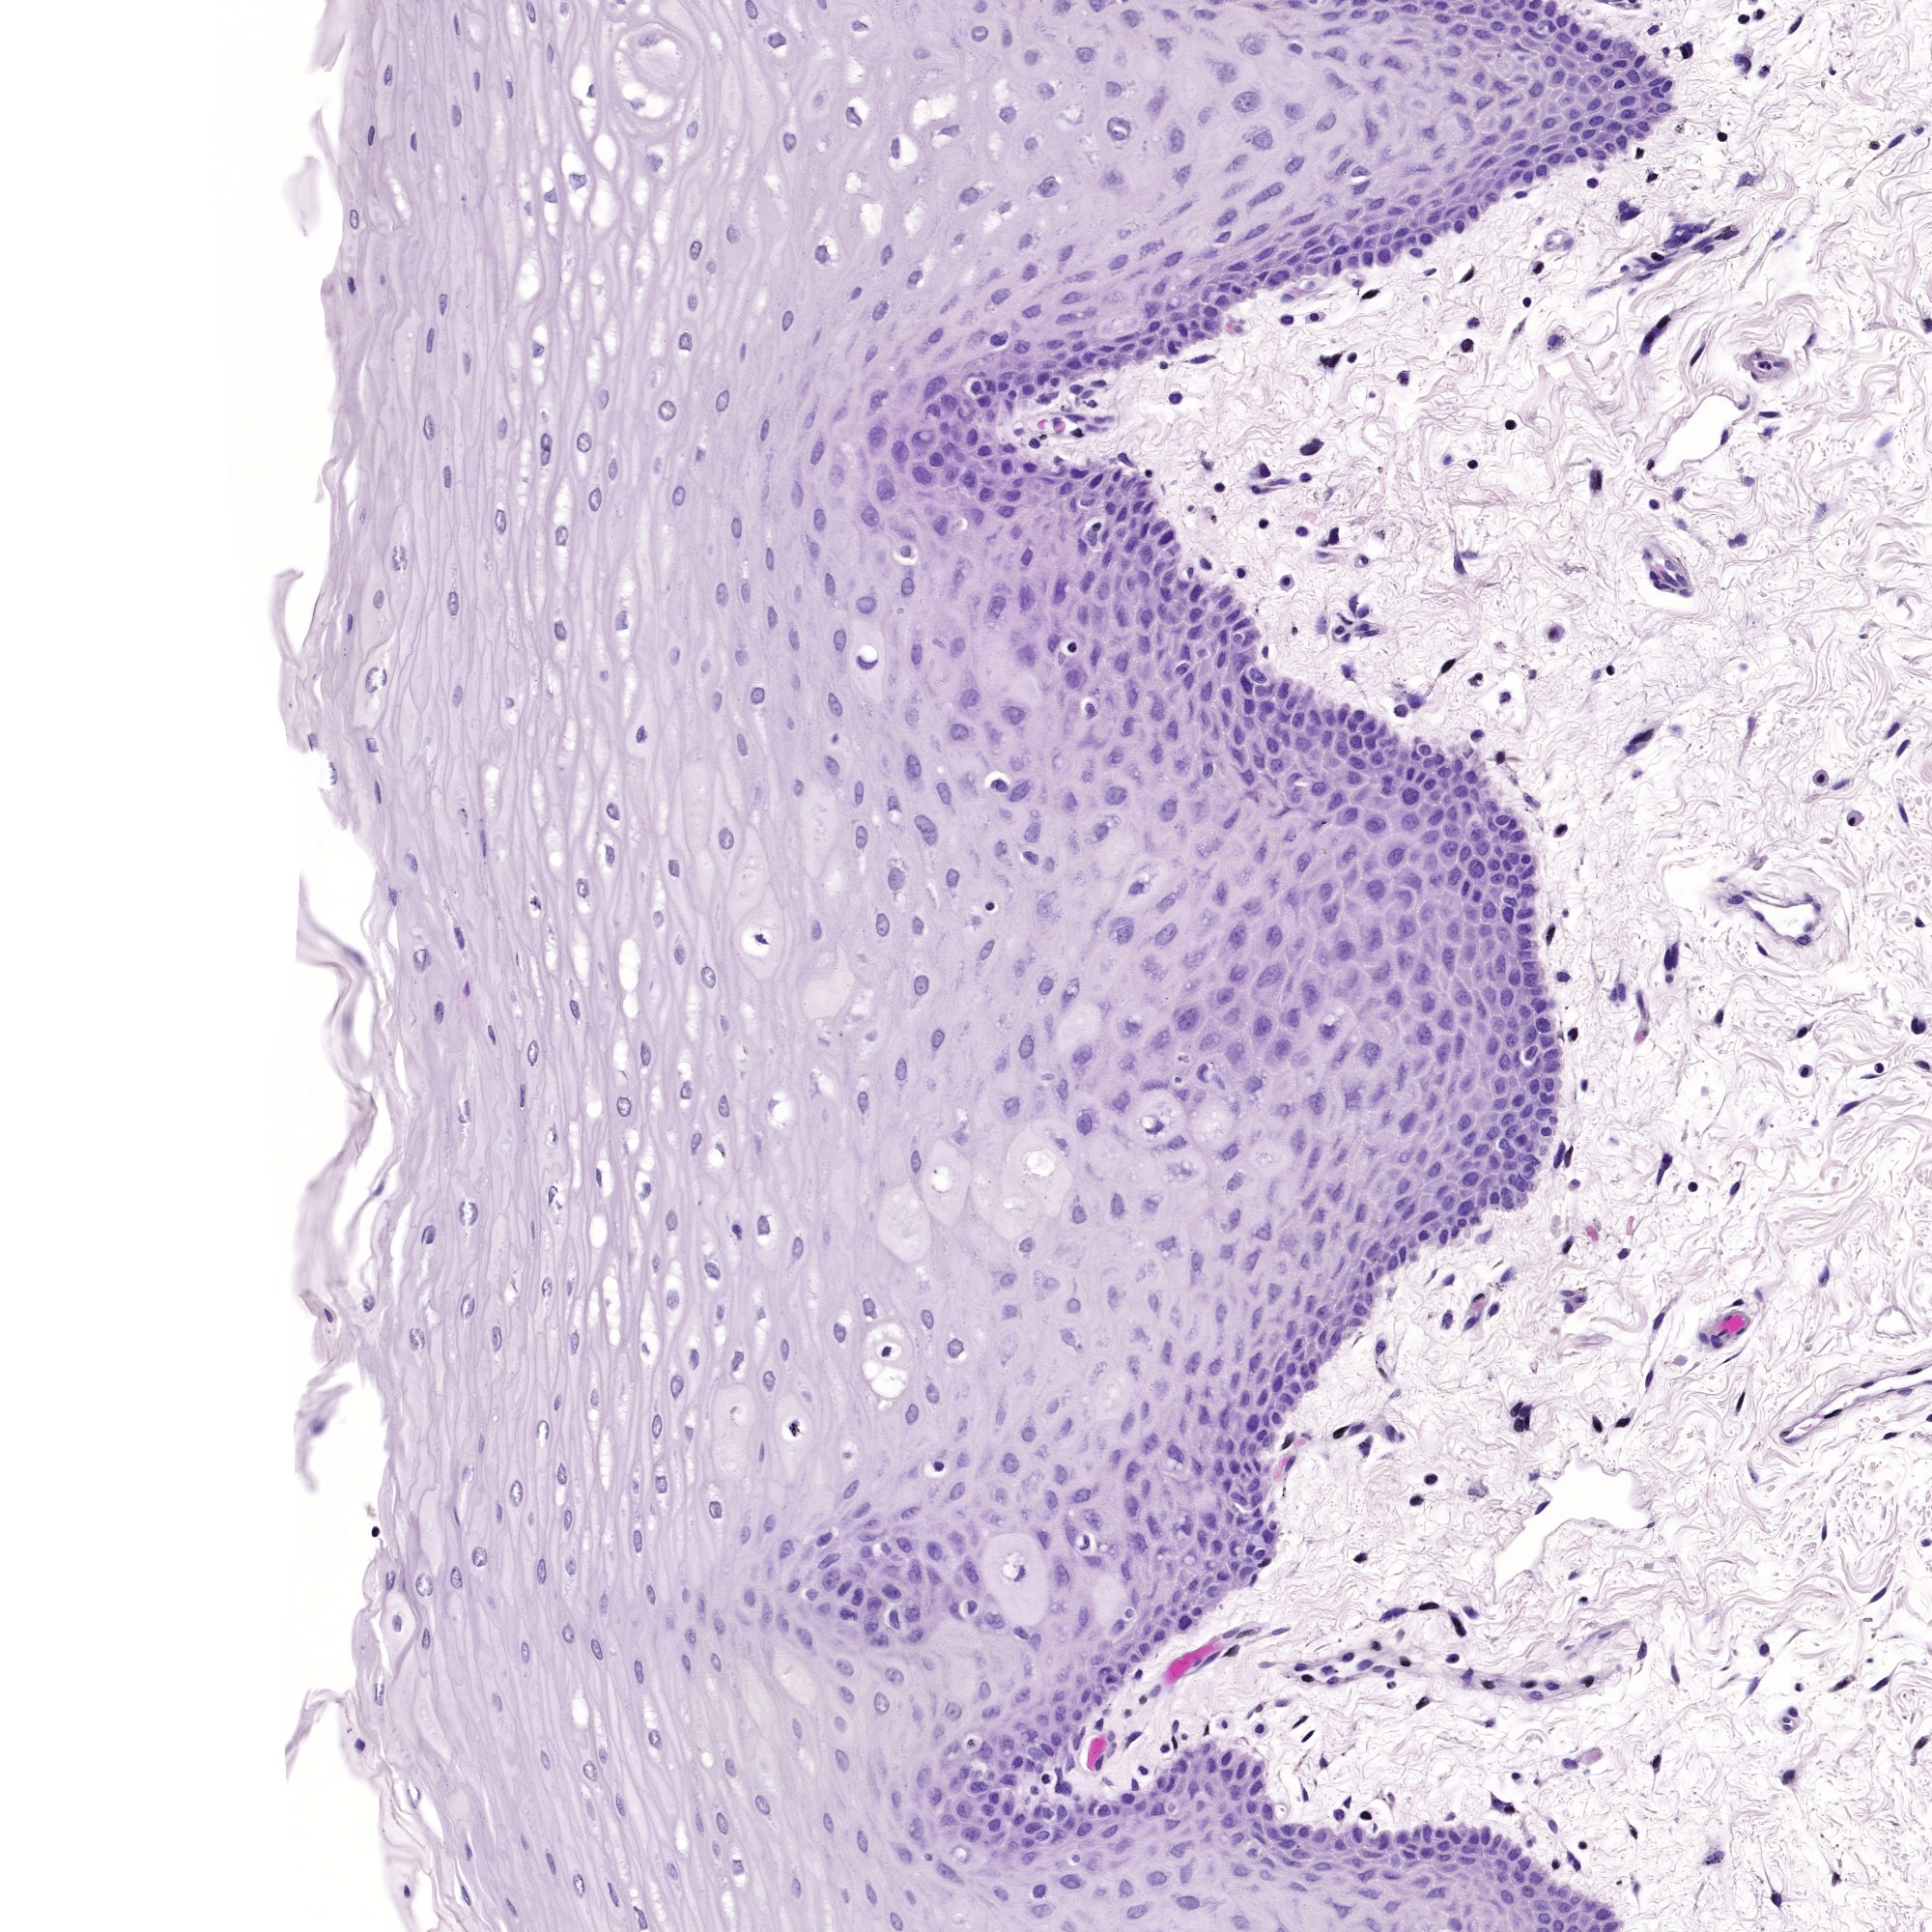epithelial: (1016, 786, 1026, 798), (957, 727, 964, 738), (1424, 1028, 1430, 1042), (920, 472, 927, 481), (1164, 897, 1171, 906), (916, 982, 925, 989), (1242, 660, 1253, 665), (1058, 584, 1062, 600), (1329, 909, 1334, 920), (832, 764, 839, 771), (1187, 1900, 1194, 1907), (1253, 230, 1261, 235), (931, 384, 939, 389), (720, 1104, 725, 1113), (1318, 1235, 1323, 1244), (1113, 175, 1118, 182), (1265, 191, 1272, 196), (1302, 218, 1309, 223), (1077, 341, 1083, 349), (584, 439, 589, 446), (816, 448, 821, 455), (867, 513, 872, 520), (1162, 612, 1168, 619), (1408, 793, 1414, 800), (1322, 890, 1329, 895), (1341, 947, 1346, 954), (1461, 996, 1467, 1003), (1279, 1047, 1284, 1054), (1184, 1016, 1191, 1021), (1157, 1037, 1162, 1044), (1405, 1152, 1410, 1159), (1320, 1309, 1327, 1315), (1129, 1504, 1134, 1511), (1090, 1518, 1095, 1525), (893, 1918, 897, 1928), (1132, 1909, 1138, 1916), (1435, 1891, 1442, 1897), (1525, 1890, 1530, 1897), (1539, 1905, 1546, 1911), (1629, 74, 1637, 80), (1272, 1288, 1276, 1297), (1304, 1258, 1307, 1267), (1405, 1120, 1408, 1129), (901, 1543, 909, 1546), (991, 1621, 1000, 1624), (1060, 1709, 1063, 1718), (1072, 1879, 1076, 1888), (1169, 258, 1175, 264), (1325, 120, 1330, 126), (1290, 258, 1295, 264), (428, 426, 433, 432), (862, 602, 867, 607), (1030, 855, 1035, 860), (1164, 932, 1169, 938), (1352, 759, 1357, 764), (1376, 757, 1382, 763), (1403, 892, 1408, 897), (1529, 1033, 1534, 1039), (1371, 1053, 1376, 1058), (1422, 975, 1428, 980), (1235, 970, 1240, 975), (1261, 1024, 1267, 1030), (1081, 1053, 1086, 1058), (1150, 1083, 1155, 1088), (722, 1021, 727, 1026), (713, 1270, 718, 1276), (837, 1332, 842, 1338), (1164, 1242, 1169, 1247), (1249, 1258, 1254, 1263), (1369, 1247, 1375, 1253), (952, 1709, 957, 1714), (1154, 1875, 1159, 1881), (529, 7, 533, 14), (1005, 115, 1012, 119), (1042, 90, 1046, 97), (1026, 271, 1033, 274), (1253, 41, 1256, 48), (1445, 69, 1453, 73), (1307, 228, 1315, 232), (931, 407, 938, 410), (1014, 529, 1017, 536), (1157, 564, 1161, 571), (1357, 711, 1361, 718), (1139, 573, 1143, 580), (968, 697, 975, 701), (1134, 694, 1138, 701), (639, 731, 642, 738), (722, 837, 729, 840), (1031, 830, 1035, 837), (1346, 853, 1350, 860), (1530, 1065, 1537, 1069), (1447, 955, 1451, 962), (1491, 1044, 1495, 1051), (1445, 1017, 1449, 1024), (1392, 996, 1396, 1003), (1175, 1141, 1182, 1145), (1313, 1157, 1316, 1164), (1281, 1359, 1284, 1366), (1507, 1164, 1514, 1168), (1150, 1523, 1154, 1530), (945, 1867, 948, 1874), (1391, 1874, 1398, 1877), (1573, 23, 1576, 30), (920, 51, 924, 57), (1332, 28, 1338, 32), (1479, 32, 1484, 35), (1426, 133, 1431, 136), (1486, 161, 1491, 165), (1309, 241, 1313, 246), (1182, 327, 1185, 333), (1141, 352, 1145, 357), (1028, 389, 1031, 395), (996, 292, 1001, 295), (947, 398, 950, 403), (545, 441, 548, 446), (985, 492, 989, 497), (1005, 510, 1008, 515), (975, 513, 978, 518), (1058, 469, 1062, 474), (1157, 527, 1162, 531), (1242, 681, 1247, 685), (1300, 741, 1304, 747), (1237, 623, 1242, 626), (1166, 575, 1169, 580), (771, 616, 775, 621), (743, 656, 747, 662), (619, 621, 623, 626), (561, 632, 564, 637), (605, 674, 609, 679), (372, 743, 375, 748), (895, 878, 899, 883), (879, 927, 885, 931), (810, 929, 814, 934), (1100, 830, 1104, 835), (1231, 819, 1235, 824), (1046, 904, 1047, 915), (1295, 793, 1299, 798), (1437, 816, 1442, 819), (1500, 835, 1506, 839), (1430, 835, 1435, 839), (1392, 858, 1398, 862), (1527, 870, 1530, 876), (1525, 911, 1529, 916), (1497, 1023, 1500, 1028), (1543, 1099, 1548, 1102), (1518, 1099, 1522, 1104), (1463, 1083, 1468, 1086), (1380, 968, 1382, 978), (1309, 993, 1313, 998), (1267, 973, 1270, 978), (1042, 984, 1047, 987), (1008, 1106, 1012, 1111), (672, 1299, 676, 1304), (1168, 1350, 1169, 1361), (1192, 1359, 1194, 1369), (1426, 1215, 1431, 1219), (1311, 1364, 1315, 1369), (1304, 1373, 1307, 1378), (1065, 1426, 1069, 1431), (1010, 1461, 1014, 1467), (911, 1412, 916, 1415), (768, 1520, 771, 1525), (870, 1626, 874, 1631), (911, 1573, 915, 1578), (1023, 1631, 1028, 1635), (1122, 1649, 1127, 1652), (1219, 1573, 1223, 1578), (1511, 1852, 1516, 1856), (1442, 1845, 1445, 1851), (1318, 1835, 1323, 1838), (922, 1775, 925, 1780), (1083, 1826, 1086, 1831), (589, 1808, 594, 1812), (1369, 1891, 1373, 1897), (1387, 1905, 1398, 1907), (1518, 1877, 1522, 1882), (1562, 1905, 1568, 1909), (1601, 1914, 1605, 1920), (1571, 1916, 1576, 1920), (1573, 111, 1576, 117), (1649, 73, 1652, 78), (1297, 108, 1299, 117), (736, 524, 738, 533), (1026, 554, 1028, 563), (994, 603, 996, 612), (1169, 805, 1171, 814), (1401, 961, 1410, 962), (1251, 1079, 1253, 1088), (863, 1099, 865, 1108), (1309, 1194, 1311, 1203), (1035, 1637, 1037, 1645), (1244, 1571, 1253, 1573), (387, 76, 391, 80), (455, 113, 458, 117), (690, 127, 694, 131), (550, 196, 554, 200), (789, 138, 791, 145), (1060, 5, 1063, 9), (1046, 188, 1049, 191), (1150, 246, 1152, 253), (1116, 260, 1120, 264), (1023, 239, 1026, 242), (1164, 44, 1168, 48), (1228, 71, 1230, 78), (1334, 80, 1338, 83), (1380, 12, 1382, 19), (1454, 96, 1458, 99), (1483, 99, 1486, 103), (1412, 198, 1415, 202), (1435, 202, 1438, 205), (1263, 253, 1267, 257), (1279, 255, 1286, 257), (1424, 239, 1428, 242), (1210, 311, 1214, 315), (1196, 334, 1200, 338), (1171, 345, 1173, 352), (1070, 292, 1074, 295), (1065, 318, 1069, 322), (1127, 345, 1131, 349), (936, 331, 938, 338), (545, 453, 548, 456), (807, 418, 810, 421), (1016, 481, 1023, 483), (1076, 474, 1083, 476), (1164, 538, 1168, 541), (1272, 741, 1274, 748), (1230, 616, 1233, 619), (1192, 610, 1194, 617), (1187, 681, 1191, 685), (1164, 591, 1168, 594), (1145, 612, 1148, 616), (1085, 577, 1088, 580), (1016, 715, 1019, 718), (1074, 678, 1076, 685), (1122, 660, 1123, 667), (743, 748, 747, 752), (391, 895, 395, 899), (672, 863, 676, 867), (911, 761, 915, 764), (1115, 794, 1118, 798), (1090, 741, 1097, 743), (1258, 761, 1261, 764), (1269, 777, 1272, 780), (1295, 775, 1297, 782), (1316, 786, 1320, 789), (1352, 777, 1355, 780), (1437, 759, 1440, 763), (1472, 869, 1476, 872), (1334, 801, 1338, 805), (1437, 879, 1440, 883), (1511, 881, 1514, 885), (1523, 952, 1527, 955), (1529, 964, 1532, 968), (1537, 1001, 1541, 1005), (1546, 1040, 1550, 1044), (1548, 1063, 1552, 1067), (1484, 929, 1488, 932), (1504, 994, 1507, 998), (1511, 1023, 1514, 1026), (1511, 1037, 1513, 1044), (1316, 1100, 1320, 1104), (1293, 1016, 1295, 1023), (784, 1346, 787, 1350), (867, 1306, 870, 1309), (1079, 1122, 1083, 1125), (1233, 1178, 1237, 1182), (1214, 1364, 1217, 1368), (1339, 1154, 1343, 1157), (1339, 1189, 1341, 1196), (1421, 1155, 1424, 1159), (1401, 1185, 1405, 1189), (1350, 1240, 1353, 1244), (1431, 1169, 1435, 1173), (1254, 1361, 1258, 1364), (1477, 1150, 1481, 1154), (1509, 1131, 1513, 1134), (1465, 1207, 1468, 1210), (1284, 1398, 1288, 1401), (1277, 1378, 1279, 1385), (1148, 1442, 1152, 1445), (1175, 1453, 1178, 1456), (1258, 1522, 1261, 1525), (1079, 1495, 1083, 1499), (1051, 1500, 1054, 1504), (1026, 1435, 1030, 1438), (961, 1424, 962, 1431), (932, 1391, 934, 1398), (686, 1431, 690, 1435), (497, 1698, 499, 1706), (571, 1562, 575, 1566), (651, 1592, 655, 1596), (639, 1672, 642, 1675), (718, 1622, 722, 1626), (842, 1665, 846, 1668), (833, 1575, 835, 1582), (878, 1642, 885, 1644), (932, 1575, 936, 1578), (970, 1569, 973, 1573), (1062, 1573, 1063, 1580), (1095, 1660, 1099, 1663), (1247, 1546, 1251, 1550), (1500, 1863, 1504, 1867), (1451, 1835, 1454, 1838), (1415, 1835, 1419, 1838), (1184, 1764, 1185, 1771), (1254, 1785, 1258, 1789), (1338, 1845, 1341, 1849), (989, 1808, 993, 1812), (947, 1821, 950, 1824), (968, 1833, 971, 1836), (1031, 1826, 1035, 1829), (1069, 1821, 1072, 1824), (839, 1721, 842, 1725), (1238, 1920, 1242, 1923), (1364, 1874, 1368, 1877), (1419, 1881, 1422, 1884), (1571, 1898, 1575, 1902), (1529, 16, 1532, 19), (1497, 25, 1500, 28), (1564, 37, 1568, 41), (1591, 35, 1598, 37), (1605, 41, 1608, 44), (1500, 85, 1504, 88), (1576, 124, 1580, 127), (1626, 113, 1629, 117), (1612, 126, 1615, 129), (1654, 92, 1658, 96), (456, 23, 458, 28), (731, 230, 732, 235), (1007, 35, 1008, 41), (1083, 276, 1088, 278), (1233, 188, 1235, 193), (1256, 5, 1261, 7), (1332, 53, 1338, 55), (1408, 7, 1414, 9), (1472, 209, 1474, 214), (1433, 214, 1435, 219), (1392, 209, 1394, 214), (1332, 239, 1334, 244), (1223, 299, 1224, 304), (1194, 322, 1196, 327), (1123, 338, 1129, 340), (722, 398, 724, 403), (501, 426, 502, 432), (770, 559, 771, 564), (801, 386, 803, 391), (968, 476, 970, 481), (1109, 490, 1111, 495), (1148, 502, 1150, 508), (1120, 513, 1122, 518), (1090, 536, 1092, 541), (1283, 718, 1288, 720), (1123, 614, 1125, 619), (1024, 594, 1026, 600), (906, 586, 908, 591), (828, 580, 830, 586), (833, 706, 835, 711), (959, 644, 961, 649), (717, 695, 718, 701), (674, 653, 676, 658), (920, 823, 925, 824), (1003, 814, 1008, 816), (1049, 862, 1051, 867), (1136, 885, 1138, 890), (1125, 932, 1127, 938), (1240, 754, 1242, 759), (1276, 764, 1277, 770), (1382, 741, 1387, 743), (1430, 784, 1431, 789), (1447, 796, 1449, 801), (1453, 828, 1454, 833), (1288, 833, 1290, 839), (1403, 929, 1405, 934), (1454, 876, 1456, 881), (1529, 890, 1530, 895), (1520, 929, 1525, 931), (1500, 961, 1502, 966), (1477, 970, 1479, 975), (1499, 1102, 1500, 1108), (1191, 984, 1196, 985), (1047, 1021, 1049, 1026), (1129, 1026, 1134, 1028), (1120, 1099, 1122, 1104), (938, 1037, 939, 1042), (901, 1069, 902, 1074), (644, 1053, 646, 1058), (1233, 1215, 1235, 1221), (1223, 1309, 1224, 1315), (1352, 1099, 1353, 1104), (1353, 1320, 1359, 1322), (1456, 1157, 1461, 1159), (1507, 1116, 1509, 1122), (1520, 1184, 1522, 1189), (1253, 1447, 1254, 1453), (1187, 1525, 1189, 1530), (964, 1458, 966, 1463), (557, 1401, 559, 1407), (426, 1635, 428, 1640), (525, 1649, 527, 1654), (782, 1621, 784, 1626), (793, 1583, 794, 1589), (1083, 1615, 1085, 1621), (989, 1711, 994, 1713), (1086, 1693, 1088, 1698), (1097, 1698, 1099, 1704), (1210, 1589, 1212, 1594), (1468, 1849, 1474, 1851), (1224, 1773, 1226, 1778), (994, 1794, 996, 1799), (915, 1824, 916, 1829), (962, 1805, 964, 1810), (1028, 1856, 1030, 1861), (840, 1757, 842, 1762), (1127, 1886, 1129, 1891), (1594, 58, 1599, 60), (1617, 83, 1622, 85), (1610, 145, 1612, 150), (564, 9, 566, 12), (577, 179, 580, 180), (655, 159, 656, 163), (695, 246, 697, 249), (977, 32, 978, 35), (947, 131, 950, 133), (970, 195, 971, 198), (957, 239, 961, 241), (1005, 205, 1007, 209), (1131, 16, 1132, 19), (1201, 113, 1203, 117), (1246, 103, 1247, 106), (1263, 138, 1265, 142), (1182, 205, 1184, 209), (1228, 216, 1230, 219), (1330, 14, 1332, 18), (1364, 58, 1368, 60), (1453, 51, 1454, 55), (1468, 44, 1472, 46), (1467, 7, 1468, 11), (1486, 140, 1490, 142), (1375, 129, 1376, 133), (1295, 163, 1297, 166), (1361, 172, 1364, 173), (1421, 166, 1422, 170), (1491, 196, 1495, 198), (1458, 225, 1460, 228), (1373, 203, 1376, 205), (1223, 237, 1226, 239), (1235, 265, 1238, 267), (1371, 228, 1375, 230), (1384, 239, 1387, 241), (1398, 244, 1399, 248), (1352, 260, 1353, 264), (1205, 292, 1207, 295), (1210, 326, 1214, 327), (1192, 310, 1194, 313), (1150, 310, 1152, 313), (1146, 340, 1150, 341), (1100, 361, 1104, 363), (1106, 349, 1109, 350), (1076, 333, 1079, 334), (1054, 343, 1056, 347), (1062, 356, 1063, 359), (1074, 363, 1076, 366), (1042, 373, 1044, 377), (948, 304, 952, 306), (984, 400, 985, 403), (869, 352, 870, 356), (878, 308, 879, 311), (787, 318, 789, 322), (741, 350, 743, 354), (350, 283, 352, 287), (685, 340, 686, 343), (600, 396, 603, 398), (839, 414, 842, 416), (814, 548, 816, 552), (883, 487, 885, 490), (897, 451, 901, 453), (932, 458, 936, 460), (948, 476, 952, 478), (970, 435, 973, 437), (1012, 495, 1014, 499), (1046, 479, 1049, 481), (1095, 479, 1099, 481), (1072, 504, 1074, 508), (1109, 508, 1111, 511), (1143, 529, 1145, 533), (1081, 545, 1083, 548), (1380, 732, 1382, 736), (1309, 729, 1311, 732), (1329, 717, 1330, 720), (1292, 701, 1293, 704), (1276, 727, 1277, 731), (1224, 717, 1226, 720), (1249, 637, 1251, 640), (1223, 603, 1226, 605), (1214, 621, 1217, 623), (1182, 669, 1185, 671), (1207, 692, 1210, 694), (1125, 564, 1127, 568), (1102, 587, 1104, 591), (1131, 582, 1132, 586), (1081, 612, 1083, 616), (959, 577, 961, 580), (915, 651, 916, 655), (936, 642, 939, 644), (1053, 639, 1054, 642), (1095, 651, 1097, 655), (911, 713, 913, 717), (757, 695, 759, 699), (311, 738, 313, 741), (412, 862, 414, 865), (458, 938, 462, 939), (893, 803, 897, 805), (943, 793, 947, 794), (918, 927, 920, 931), (1067, 803, 1069, 807), (989, 948, 991, 952), (1247, 775, 1249, 778), (1398, 768, 1399, 771), (1408, 773, 1410, 777), (1472, 775, 1474, 778), (1467, 807, 1468, 810), (1490, 805, 1491, 809), (1495, 826, 1497, 830), (1518, 835, 1520, 839), (1511, 856, 1514, 858), (1491, 863, 1493, 867), (1449, 849, 1451, 853), (1408, 821, 1410, 824), (1376, 821, 1378, 824), (1283, 810, 1286, 812), (1350, 874, 1352, 878), (1292, 895, 1293, 899), (1274, 936, 1276, 939), (1373, 938, 1375, 941), (1414, 879, 1415, 883), (1490, 908, 1491, 911), (1509, 911, 1511, 915), (1495, 878, 1499, 879), (1525, 945, 1529, 947), (1541, 1024, 1545, 1026), (1550, 1053, 1552, 1056), (1504, 931, 1506, 934), (1488, 991, 1490, 994), (1465, 1017, 1467, 1021), (1504, 1062, 1506, 1065), (1534, 1085, 1536, 1088), (1499, 1085, 1500, 1088), (1527, 1111, 1529, 1115), (1433, 1100, 1435, 1104), (1019, 968, 1021, 971), (1063, 1086, 1065, 1090), (1235, 1051, 1237, 1054), (1212, 1042, 1215, 1044), (679, 952, 681, 955), (439, 1010, 441, 1014), (669, 1223, 671, 1226), (763, 1223, 764, 1226), (718, 1311, 720, 1315), (925, 1318, 929, 1320), (1007, 1277, 1010, 1279), (1074, 1304, 1076, 1307), (1152, 1302, 1154, 1306), (1299, 1139, 1300, 1143), (1226, 1253, 1230, 1254), (1318, 1212, 1320, 1215), (1445, 1146, 1447, 1150), (1405, 1212, 1408, 1214), (1442, 1189, 1444, 1192), (1309, 1302, 1311, 1306), (1359, 1309, 1362, 1311), (1334, 1338, 1336, 1341), (1315, 1327, 1316, 1330), (1290, 1327, 1292, 1330), (1300, 1355, 1302, 1359), (1468, 1138, 1470, 1141), (1493, 1159, 1495, 1162), (1474, 1221, 1477, 1223), (1504, 1192, 1506, 1196), (1530, 1159, 1534, 1161), (1307, 1384, 1309, 1387), (1295, 1387, 1297, 1391), (1263, 1394, 1265, 1398), (1246, 1398, 1247, 1401), (1224, 1414, 1226, 1417), (1253, 1422, 1256, 1424), (1217, 1465, 1219, 1468), (1256, 1511, 1258, 1514), (1208, 1520, 1212, 1522), (1145, 1486, 1146, 1490), (1053, 1405, 1054, 1408), (957, 1490, 959, 1493), (870, 1522, 872, 1525), (908, 1514, 909, 1518), (863, 1509, 865, 1513), (738, 1355, 740, 1359), (694, 1357, 695, 1361), (396, 1621, 398, 1624), (594, 1647, 596, 1651), (685, 1660, 686, 1663), (690, 1633, 692, 1637), (685, 1594, 686, 1598), (826, 1559, 830, 1560), (823, 1608, 824, 1612), (842, 1589, 846, 1591), (846, 1612, 849, 1614), (855, 1598, 858, 1599), (872, 1601, 874, 1605), (915, 1635, 916, 1638), (931, 1550, 934, 1552), (957, 1537, 959, 1541), (973, 1537, 975, 1541), (1046, 1536, 1047, 1539), (893, 1674, 895, 1677), (925, 1661, 929, 1663), (844, 1693, 847, 1695), (1023, 1695, 1024, 1698), (1058, 1695, 1060, 1698), (1102, 1670, 1106, 1672), (1136, 1656, 1138, 1660), (1148, 1626, 1150, 1629), (1138, 1541, 1139, 1545), (1166, 1621, 1168, 1624), (1214, 1545, 1217, 1546), (1523, 1863, 1525, 1867), (1484, 1835, 1486, 1838), (1465, 1859, 1468, 1861), (1440, 1833, 1444, 1835), (1138, 1805, 1139, 1808), (1208, 1789, 1210, 1792), (1251, 1805, 1253, 1808), (1399, 1838, 1403, 1840), (1426, 1851, 1430, 1852), (1444, 1858, 1445, 1861), (1369, 1854, 1373, 1856), (1290, 1863, 1293, 1865), (1228, 1821, 1230, 1824), (1200, 1805, 1201, 1808), (1178, 1847, 1180, 1851), (1122, 1844, 1123, 1847), (1090, 1808, 1093, 1810), (1016, 1762, 1017, 1766), (978, 1783, 980, 1787), (934, 1792, 936, 1796), (994, 1822, 996, 1826), (1056, 1835, 1060, 1836), (904, 1852, 906, 1856), (729, 1766, 731, 1769), (796, 1727, 798, 1730), (469, 1852, 471, 1856), (511, 1905, 513, 1909), (738, 1867, 740, 1870), (909, 1895, 911, 1898), (1001, 1895, 1003, 1898), (1238, 1872, 1242, 1874), (1311, 1879, 1315, 1881), (1341, 1909, 1343, 1913), (1456, 1925, 1458, 1928), (1507, 1898, 1509, 1902), (1536, 1877, 1537, 1881), (1550, 1891, 1552, 1895), (1589, 1904, 1591, 1907), (1545, 1920, 1548, 1921), (1534, 2, 1536, 5), (1560, 19, 1562, 23), (1619, 65, 1622, 67), (1511, 149, 1514, 150), (1504, 124, 1506, 127), (1514, 46, 1518, 48), (1514, 30, 1516, 34), (1511, 99, 1513, 103), (1532, 150, 1534, 154), (1569, 62, 1571, 65), (1626, 51, 1628, 55), (1539, 166, 1541, 170), (1592, 122, 1596, 124), (1626, 99, 1629, 101), (1644, 126, 1645, 129), (510, 87, 511, 88), (748, 7, 750, 9), (527, 205, 529, 207), (819, 99, 821, 101), (978, 5, 980, 7), (1030, 55, 1031, 57), (886, 253, 888, 255), (1155, 106, 1157, 108), (1065, 251, 1067, 253), (1169, 16, 1171, 18), (1387, 60, 1389, 62), (1357, 14, 1359, 16), (1442, 18, 1444, 19), (1461, 119, 1463, 120), (1336, 154, 1338, 156), (1451, 165, 1453, 166), (1451, 211, 1453, 212), (1369, 239, 1371, 241), (1415, 253, 1417, 255), (1224, 285, 1226, 287), (1194, 280, 1196, 281), (998, 340, 1000, 341), (1000, 384, 1001, 386), (1012, 395, 1014, 396), (989, 384, 991, 386), (855, 290, 856, 292), (538, 350, 540, 352), (692, 299, 694, 301), (699, 453, 701, 455), (959, 456, 961, 458), (1010, 448, 1012, 449), (1127, 483, 1129, 485), (1138, 506, 1139, 508), (1171, 550, 1173, 552), (1016, 432, 1017, 433), (1299, 718, 1300, 720), (1281, 690, 1283, 692), (1247, 706, 1249, 708), (1263, 717, 1265, 718), (1194, 591, 1196, 593), (1194, 632, 1196, 633), (1203, 655, 1205, 656), (1159, 653, 1161, 655), (1026, 655, 1028, 656), (794, 639, 796, 640), (796, 681, 798, 683), (458, 695, 460, 697), (609, 853, 610, 855), (656, 918, 658, 920), (798, 787, 800, 789), (791, 725, 793, 727), (952, 878, 954, 879), (1000, 847, 1001, 849), (1254, 793, 1256, 794), (1428, 763, 1430, 764), (1415, 755, 1417, 757), (1433, 796, 1435, 798), (1509, 824, 1511, 826), (1350, 816, 1352, 817), (1472, 911, 1474, 913), (1529, 980, 1530, 982), (1523, 1012, 1525, 1014), (1514, 978, 1516, 980), (1548, 1083, 1550, 1085), (1224, 994, 1226, 996), (1127, 1063, 1129, 1065), (573, 1005, 575, 1007), (695, 1139, 697, 1141), (1067, 1336, 1069, 1338), (1077, 1215, 1079, 1217), (1062, 1143, 1063, 1145), (1148, 1205, 1150, 1207), (1230, 1152, 1231, 1154), (1399, 1203, 1401, 1205), (1339, 1265, 1341, 1267), (1422, 1235, 1424, 1237), (1338, 1318, 1339, 1320), (1378, 1270, 1380, 1272), (1507, 1203, 1509, 1205), (1267, 1440, 1269, 1442), (1219, 1440, 1221, 1442), (1235, 1467, 1237, 1468), (1256, 1463, 1258, 1465), (1253, 1483, 1254, 1484), (1272, 1525, 1274, 1527), (1240, 1520, 1242, 1522), (1228, 1516, 1230, 1518), (1127, 1422, 1129, 1424), (1116, 1456, 1118, 1458), (1001, 1495, 1003, 1497), (761, 1453, 763, 1454), (594, 1398, 596, 1399), (479, 1442, 481, 1444), (715, 1509, 717, 1511), (750, 1598, 752, 1599), (801, 1635, 803, 1637), (856, 1569, 858, 1571), (865, 1552, 867, 1553), (1042, 1718, 1044, 1720), (1111, 1679, 1113, 1681), (1122, 1667, 1123, 1668), (1134, 1598, 1136, 1599), (1495, 1842, 1497, 1844), (1474, 1838, 1476, 1840), (1127, 1798, 1129, 1799), (1169, 1785, 1171, 1787), (1210, 1764, 1212, 1766), (1272, 1831, 1274, 1833), (1284, 1831, 1286, 1833), (1304, 1831, 1306, 1833), (1384, 1842, 1385, 1844), (1412, 1845, 1414, 1847), (1407, 1854, 1408, 1856), (1288, 1844, 1290, 1845), (1300, 1854, 1302, 1856), (1033, 1755, 1035, 1757), (1005, 1780, 1007, 1782), (1007, 1808, 1008, 1810), (1037, 1810, 1039, 1812), (1017, 1819, 1019, 1821), (1042, 1835, 1044, 1836), (1109, 1831, 1111, 1833), (465, 1895, 467, 1897), (1042, 1911, 1044, 1913), (1375, 1927, 1376, 1928), (1500, 1875, 1502, 1877), (1548, 5, 1550, 7), (1513, 175, 1514, 177), (1520, 80, 1522, 81), (1559, 48, 1560, 50), (1559, 76, 1560, 78), (1530, 113, 1532, 115), (1548, 149, 1550, 150), (1571, 140, 1573, 142), (1598, 154, 1599, 156), (1580, 152, 1582, 154), (1587, 133, 1589, 134), (1621, 140, 1622, 142), (1654, 81, 1656, 83), (1536, 34, 1537, 35)
fibroblast and endothelial: (1345, 665, 1350, 676), (1660, 318, 1665, 324), (1486, 1683, 1491, 1688), (1693, 356, 1697, 363), (1361, 612, 1368, 616), (1594, 1419, 1598, 1426), (1375, 1668, 1382, 1672), (1100, 418, 1106, 421), (1203, 563, 1207, 568), (1642, 736, 1647, 740), (1412, 697, 1415, 702), (1504, 1276, 1509, 1279), (1338, 1431, 1343, 1435), (1362, 1663, 1368, 1667), (1674, 1672, 1677, 1677), (1877, 1594, 1881, 1599), (1918, 1743, 1921, 1748), (1566, 1762, 1571, 1766), (1714, 1859, 1720, 1863), (1776, 1898, 1780, 1904), (1652, 27, 1656, 32), (1667, 961, 1668, 970), (1276, 1631, 1284, 1633), (1368, 292, 1371, 295), (1074, 387, 1077, 391), (1254, 488, 1258, 492), (1364, 559, 1368, 563), (1652, 504, 1656, 508), (1748, 478, 1752, 481), (1668, 563, 1672, 566), (1658, 586, 1661, 589), (1679, 579, 1683, 582), (1447, 663, 1451, 667), (1361, 626, 1368, 628), (1674, 954, 1675, 961), (1619, 987, 1621, 994), (1718, 1014, 1720, 1021), (1495, 1307, 1497, 1315), (1714, 1339, 1718, 1343), (1288, 1442, 1292, 1445), (1424, 1605, 1431, 1606), (1332, 1679, 1336, 1683), (1838, 1684, 1845, 1686), (1575, 1863, 1578, 1867), (1495, 1805, 1499, 1808), (1552, 1824, 1555, 1828), (1299, 1720, 1302, 1723), (1796, 25, 1799, 28), (1775, 234, 1778, 237), (1196, 361, 1201, 363), (1072, 416, 1077, 418), (1675, 492, 1677, 497), (1778, 364, 1783, 366), (1741, 536, 1743, 541), (1684, 593, 1690, 594), (1352, 602, 1353, 607), (1368, 633, 1373, 635), (1833, 1412, 1838, 1414), (1824, 1530, 1826, 1536), (1352, 1430, 1357, 1431), (1346, 1654, 1352, 1656), (1389, 1614, 1394, 1615), (1725, 234, 1730, 235), (1668, 241, 1674, 242), (1651, 175, 1652, 180), (1357, 281, 1359, 285), (1284, 297, 1288, 299), (1233, 318, 1235, 322), (1086, 391, 1088, 395), (1279, 479, 1283, 481), (1265, 488, 1269, 490), (1599, 479, 1601, 483), (1759, 352, 1760, 356), (1884, 437, 1886, 441), (1904, 812, 1905, 816), (1920, 922, 1921, 925), (1640, 1001, 1642, 1005), (1851, 1104, 1854, 1106), (1559, 1155, 1560, 1159), (1568, 1154, 1569, 1157), (1568, 1307, 1571, 1309), (1867, 1384, 1870, 1385), (1739, 1399, 1741, 1403), (1415, 1500, 1419, 1502), (1306, 1677, 1309, 1679), (1422, 1702, 1424, 1706), (1228, 1633, 1231, 1635), (1258, 1707, 1261, 1709), (1468, 1612, 1472, 1614), (1633, 1831, 1635, 1835), (1323, 1762, 1325, 1766), (1175, 1725, 1178, 1727), (1143, 1769, 1145, 1773), (1134, 1785, 1136, 1789), (1132, 1737, 1136, 1739), (1109, 1734, 1111, 1737), (1062, 1773, 1063, 1776), (1628, 214, 1629, 218), (1702, 242, 1706, 244), (1660, 264, 1663, 265), (1656, 257, 1660, 258), (1569, 241, 1571, 244), (1895, 140, 1897, 143), (1467, 276, 1468, 278), (1474, 322, 1476, 324), (1238, 327, 1240, 329), (1242, 320, 1244, 322), (1097, 384, 1099, 386), (1122, 456, 1123, 458), (1647, 338, 1649, 340), (1753, 375, 1755, 377), (1725, 435, 1727, 437), (1893, 729, 1895, 731), (1904, 747, 1905, 748), (1651, 573, 1652, 575), (1670, 579, 1672, 580), (1345, 637, 1346, 639), (1736, 899, 1737, 901), (1744, 893, 1746, 895), (1759, 916, 1760, 918), (1760, 950, 1762, 952), (1801, 1033, 1803, 1035), (1923, 1063, 1925, 1065), (1566, 1246, 1568, 1247), (1578, 1300, 1580, 1302), (1658, 1318, 1660, 1320), (1737, 1302, 1739, 1304), (1706, 1338, 1707, 1339), (1739, 1330, 1741, 1332), (1905, 1391, 1907, 1392), (1890, 1433, 1891, 1435), (1649, 1376, 1651, 1378), (1621, 1422, 1622, 1424), (1514, 1410, 1516, 1412), (1523, 1412, 1525, 1414), (1389, 1430, 1391, 1431), (1290, 1461, 1292, 1463), (1456, 1622, 1458, 1624), (1461, 1631, 1463, 1633), (1536, 1695, 1537, 1697), (1752, 1686, 1753, 1688), (1877, 1684, 1879, 1686), (1792, 1713, 1794, 1714), (1366, 1815, 1368, 1817), (1173, 1739, 1175, 1741), (1104, 1810, 1106, 1812), (1099, 1723, 1100, 1725), (1644, 276, 1645, 278)
inflammatory: (1309, 446, 1315, 453), (1759, 11, 1762, 16), (1760, 364, 1769, 366), (1313, 315, 1316, 318), (1265, 469, 1267, 476), (1474, 676, 1476, 683), (1504, 695, 1507, 699), (1070, 646, 1074, 649), (954, 1346, 955, 1353), (1537, 267, 1541, 271), (1403, 375, 1405, 380), (1263, 522, 1265, 527), (1914, 1026, 1916, 1031), (1881, 1067, 1882, 1072), (1062, 1787, 1067, 1789), (1352, 357, 1353, 361), (1559, 830, 1560, 833), (1575, 1031, 1576, 1035), (1223, 1723, 1224, 1727), (1338, 1812, 1339, 1815), (1258, 1727, 1260, 1730), (1286, 318, 1288, 320), (1610, 669, 1612, 671), (1819, 778, 1821, 780)
lymphocyte: (1237, 637, 1240, 642), (904, 548, 908, 554), (996, 786, 1001, 789), (775, 39, 778, 42), (975, 386, 978, 389), (1031, 442, 1035, 446), (1090, 708, 1093, 711), (1421, 747, 1424, 750), (885, 1350, 888, 1353), (1545, 1131, 1548, 1134), (823, 1537, 826, 1541), (1720, 134, 1723, 138), (895, 145, 897, 150), (821, 255, 823, 260), (1173, 396, 1175, 402), (1693, 1184, 1695, 1189), (1405, 1663, 1410, 1665), (856, 25, 860, 27), (1148, 472, 1150, 476), (1472, 464, 1476, 465), (1525, 301, 1529, 303), (1401, 709, 1403, 713), (1256, 674, 1260, 676), (1529, 1051, 1530, 1054), (738, 1231, 740, 1235), (1276, 1415, 1277, 1419), (971, 1605, 973, 1608), (1389, 1684, 1392, 1686), (1555, 1863, 1557, 1867), (1033, 1787, 1035, 1790), (1592, 180, 1594, 184), (1295, 48, 1297, 50), (1162, 364, 1164, 366), (1219, 487, 1221, 488), (1300, 531, 1302, 533), (1509, 425, 1511, 426), (835, 738, 837, 740), (989, 906, 991, 908), (1525, 858, 1527, 860), (1504, 1145, 1506, 1146), (1430, 1477, 1431, 1479), (938, 1465, 939, 1467), (895, 1621, 897, 1622), (885, 1546, 886, 1548), (1127, 1612, 1129, 1614), (1138, 1672, 1139, 1674), (1141, 1698, 1143, 1700), (1127, 1713, 1129, 1714), (1375, 1645, 1376, 1647), (1076, 1859, 1077, 1861)
